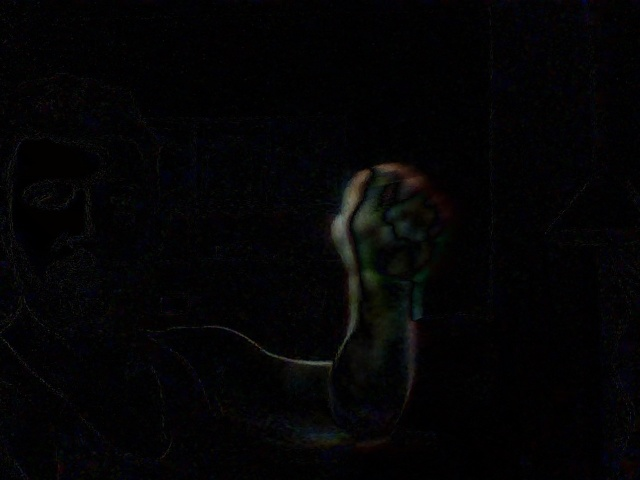hand_fi: (321, 158, 466, 290)
